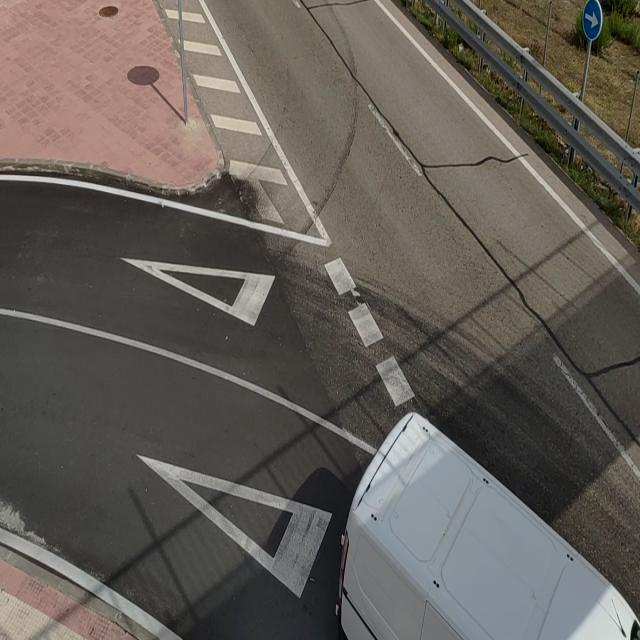Truck: (334, 409, 640, 640)
